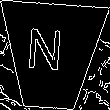N_S: (32, 30, 72, 83)
